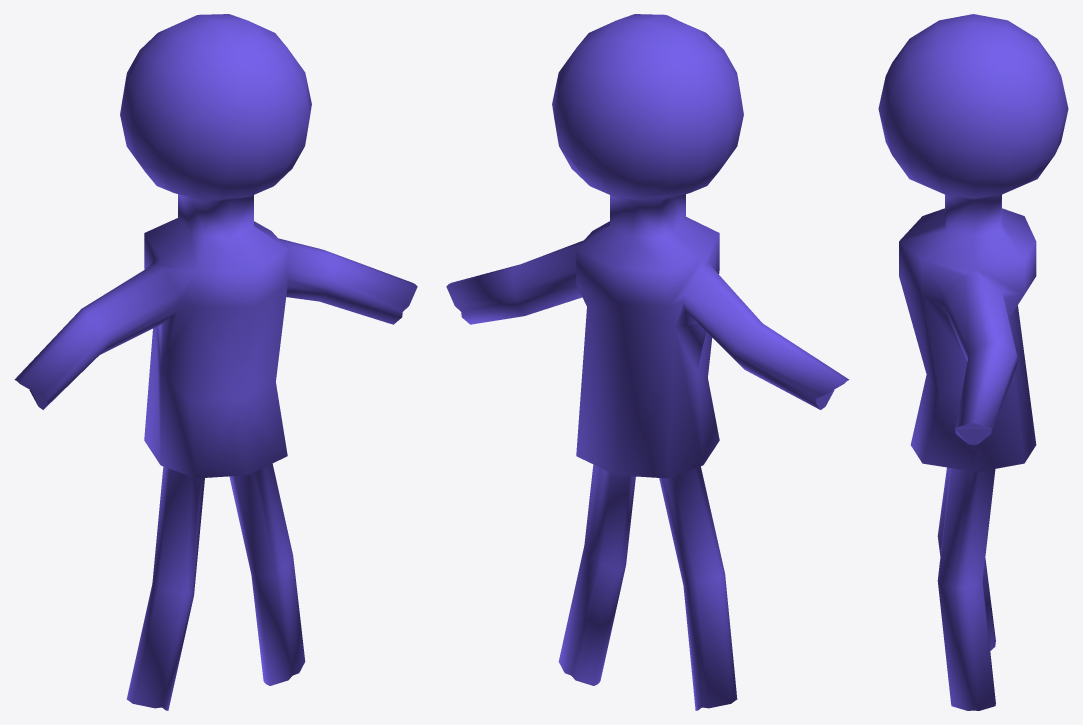
File: Character.gltf
3 renders of one model, left to right at view 1: azimuth 30°, elevation 25°; view 2: azimuth 150°, elevation 25°; view 3: azimuth 270°, elevation 25°, orthographic.
Visible parts, largest first — view 1: Character; view 2: Character; view 3: Character.
Part boxes in pixels (x1,y1,x2,y2): Character: (14,14,417,710); Character: (446,14,849,710); Character: (878,14,1068,710).
Size of the model in its own units: 0.7789 by 1.26 by 0.3279.
